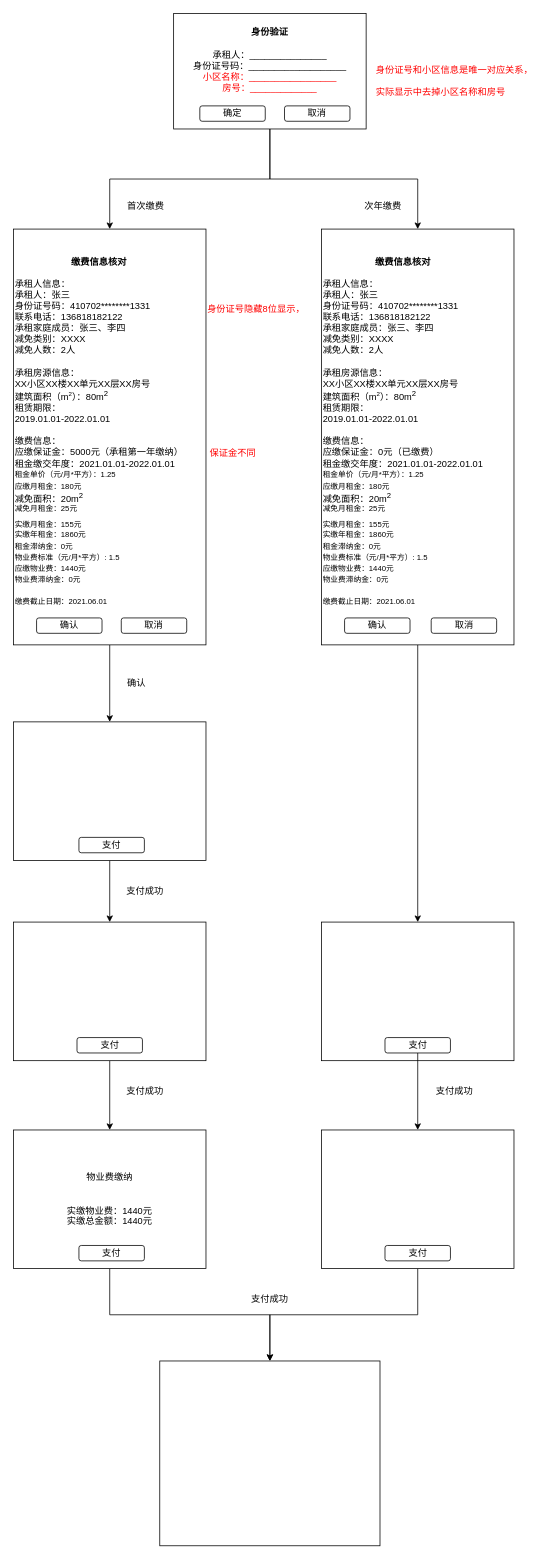
Some shapes in this 550 by 1559 pixel diagram are drawn without their labels. The box of each missing label's shape, as (x1, y1, x2, y2) in pixels:
保证金缴纳 保证金金额：5000元: (13, 721, 206, 860)
物业费缴纳 实缴物业费：1440元 物业费逾期天数：10天 物业费滞纳金：200元 实缴总金额：1640元: (321, 1129, 514, 1269)
电子合同流程: (159, 1360, 380, 1546)
租金缴纳 实缴年租金：1860元 实缴总金额：2060元: (13, 921, 206, 1061)
租金缴纳 实缴年租金：1860元 租金逾期天数：10天 租金滞纳金：200元 实缴总金额：2060元: (321, 921, 514, 1061)
